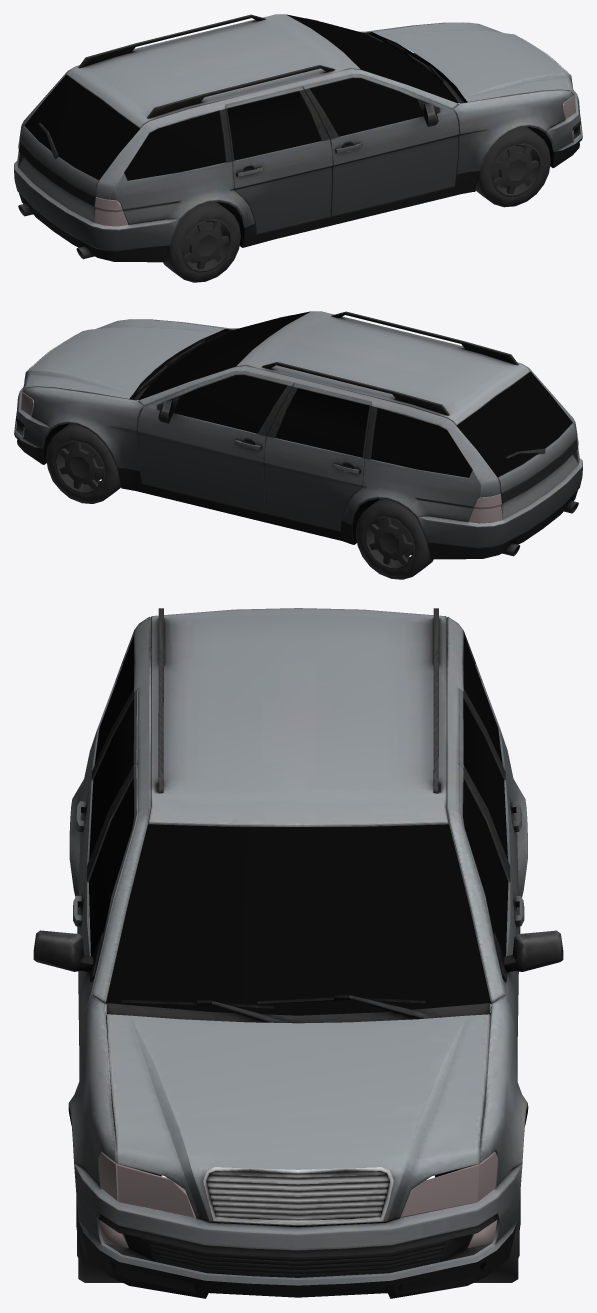
The model's file is pc-wagon-silver.lod0.glb.
3 renders of one model, top to bottom at view 1: azimuth 30°, elevation 25°; view 2: azimuth 150°, elevation 25°; view 3: azimuth 270°, elevation 25°, orthographic. The views are drawn at different scales.
Parts seen in each view (by area): view 1: Wagon Body_Body_0, Wagon Body_Glass_0; view 2: Wagon Body_Body_0, Wagon Body_Glass_0; view 3: Wagon Body_Body_0, Wagon Body_Glass_0.
Boxes of the visible parts, x1,y1,x2,y2 form: Wagon Body_Body_0: (14, 14, 582, 262); Wagon Body_Glass_0: (17, 14, 575, 282); Wagon Body_Body_0: (14, 311, 582, 559); Wagon Body_Glass_0: (21, 311, 579, 579); Wagon Body_Body_0: (33, 608, 563, 1298); Wagon Body_Glass_0: (76, 635, 520, 1282).
Bounding box in the file's own units: 4.38 × 1.38 × 1.95.
2 materials, 1 textured.
